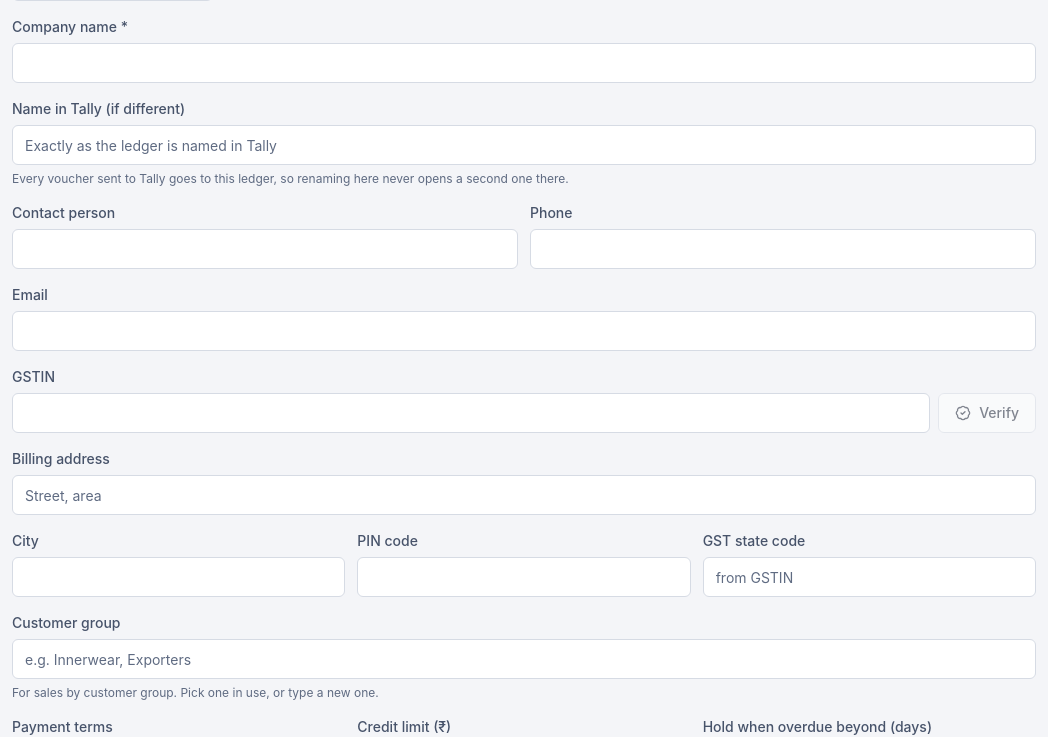
Test case: Verify on the customer form › ticks SEZ unit for a registration that is one
This screenshot has width=1048, height=737.
Type "33AAECB1234F1ZC" into the field labelled "GSTIN".
click(471, 413); type("33AAECB1234F1ZC")  # box [12,393,930,433]
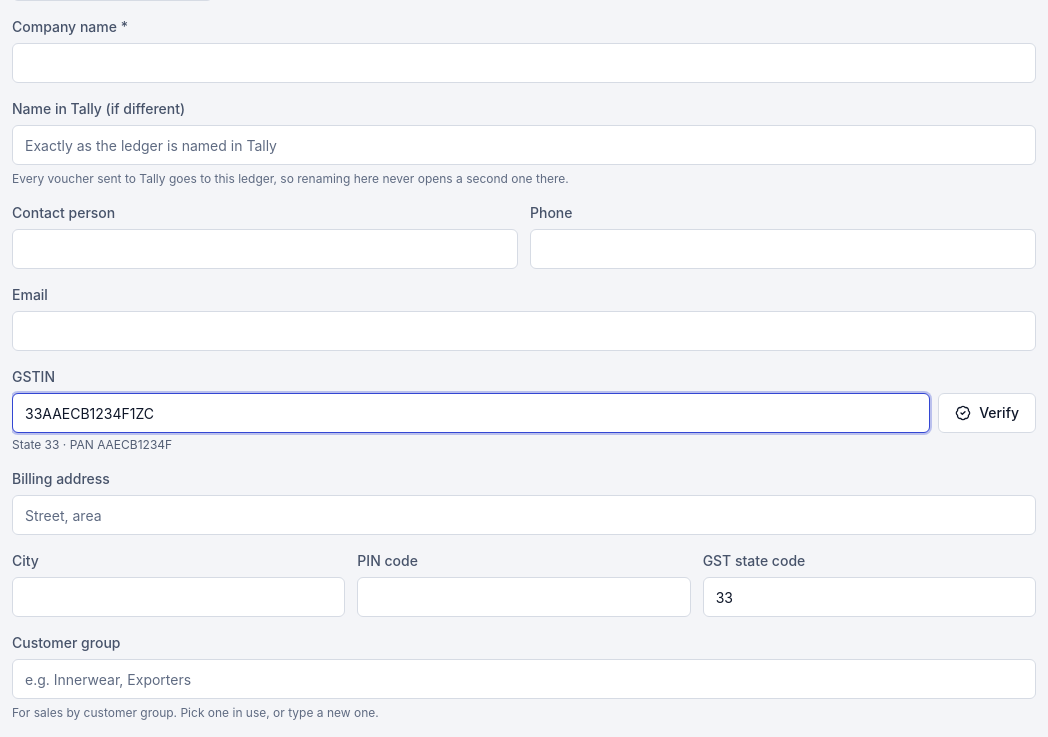
Click the button "Verify".
click(987, 413)  # box [938,393,1036,433]
(page scrolled)
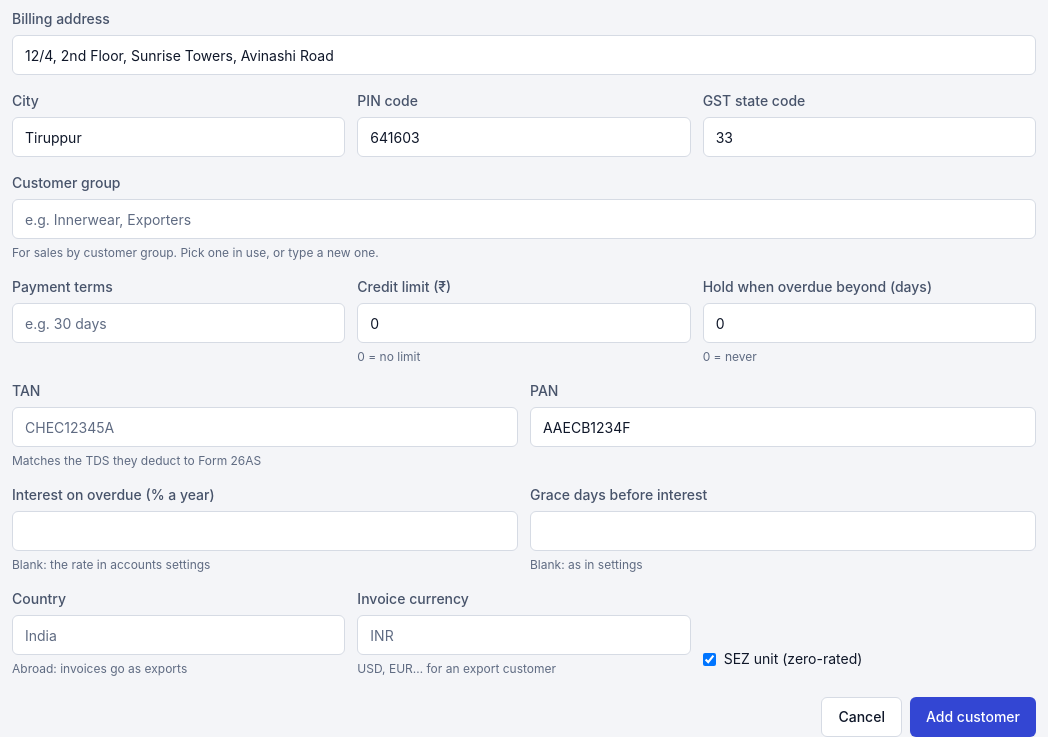
Check: the checkbox labelled "SEZ unit (zero-rated)" is checked, box [703,652,716,666]
